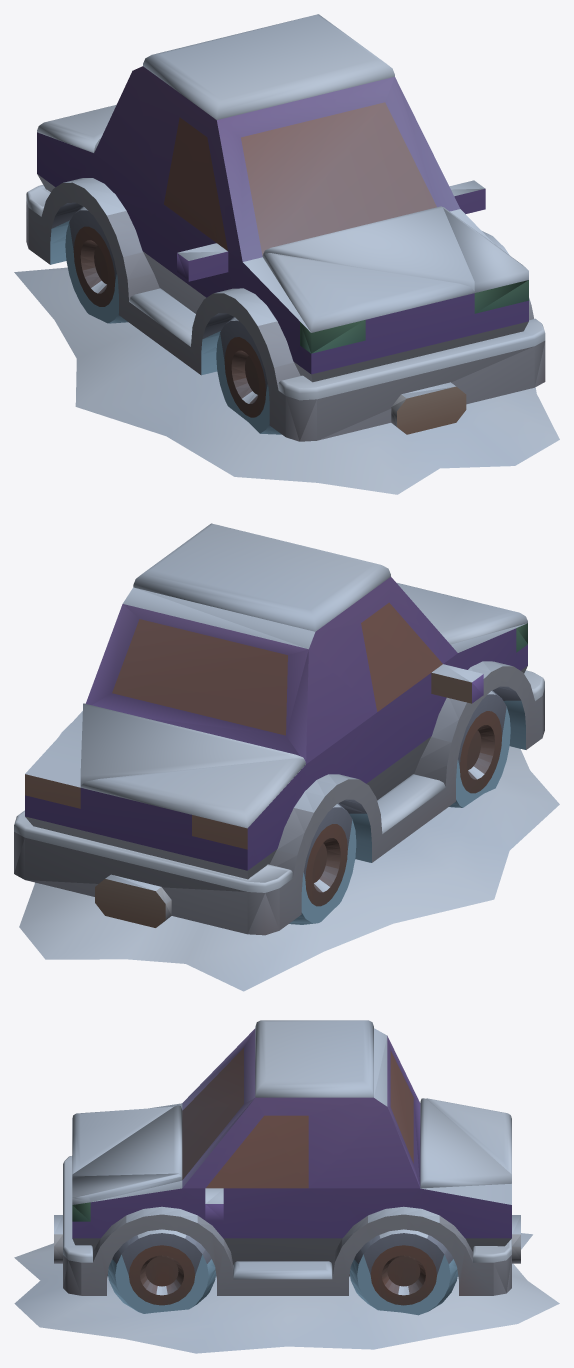
File: k_sedan.glb
The picture shows the model from 3 angles, top to bottom: view 1: azimuth 30°, elevation 25°; view 2: azimuth 150°, elevation 25°; view 3: azimuth 270°, elevation 25°; orthographic projection. The views are drawn at different scales.
Parts seen in each view (by area): view 1: Body; view 2: Body; view 3: Body.
Part boxes in pixels (x1,y1,x2,y2): Body: (14,14,559,494); Body: (14,523,559,991); Body: (14,1020,559,1353).
Size of the model in its own units: 3.46 by 2.39 by 5.14.
